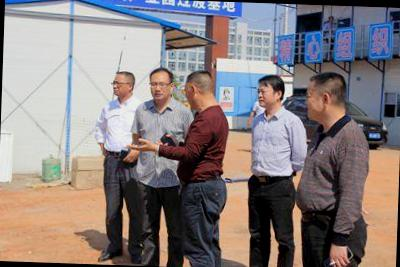no_helmet: (304, 64, 351, 126), (182, 66, 218, 111), (146, 64, 176, 103), (255, 72, 285, 110), (108, 68, 139, 99)
